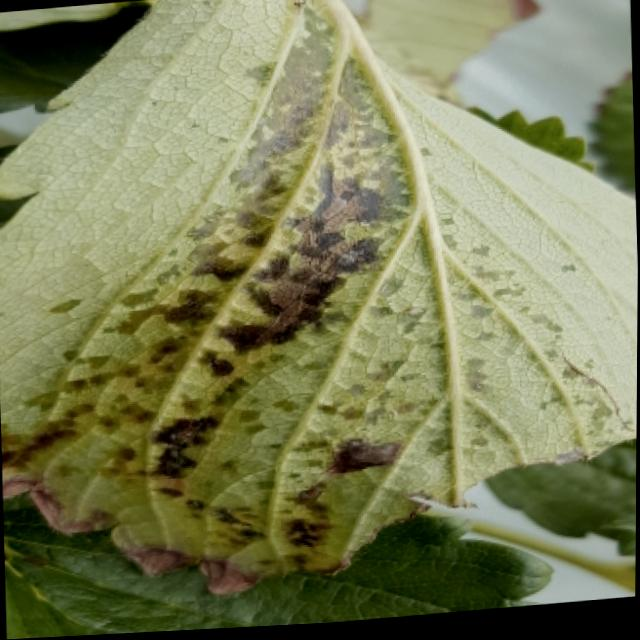Angular Leafspot: (0, 0, 638, 596)
